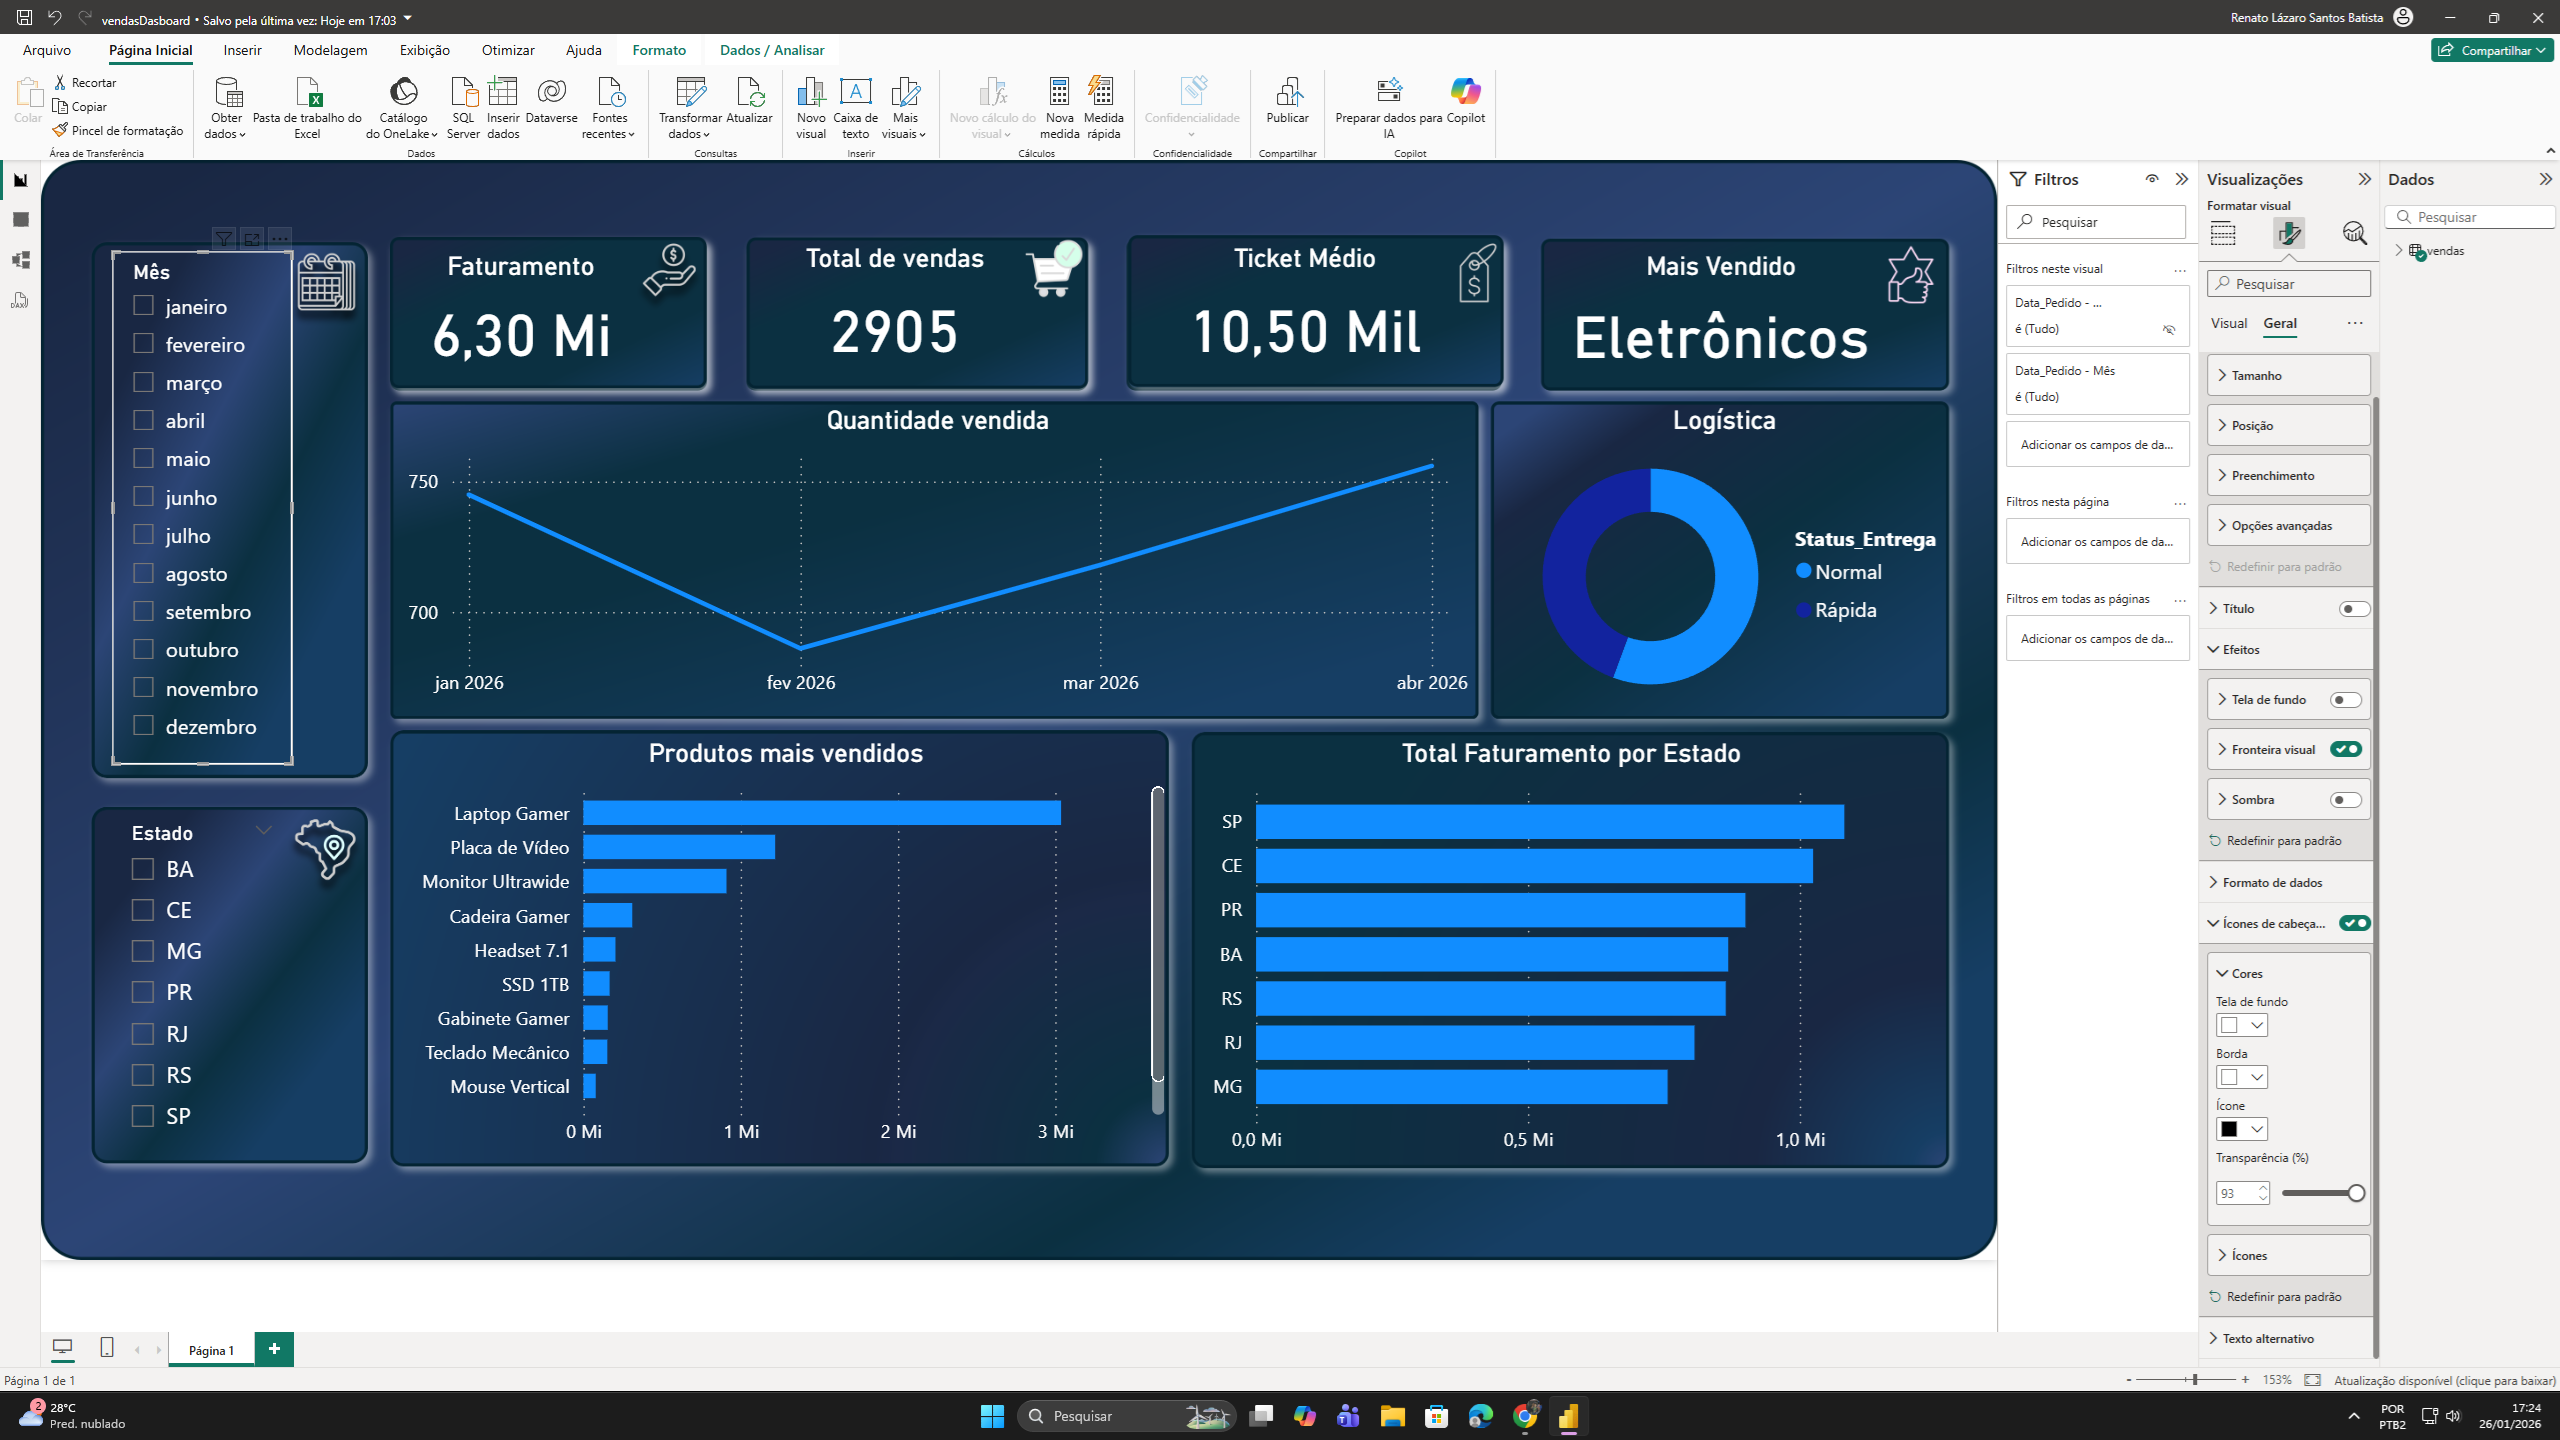

Layout of this report page (visuals, bound fields, positions):
{"tool":"powerbi","page":{"name":"Página 1","canvas":[1280,720],"ordinal":0},"visuals":[{"type":"card","title":"Faturamento","fields":{"Values":["Sum(dadc64f5-7e9e-4761-be42-3d51af9.Faturamento)"]},"box":[234.9,59.6,158.4,83.1],"z":0},{"type":"card","title":"Total de vendas","fields":{"Values":["Sum(dadc64f5-7e9e-4761-be42-3d51af9.Quantidade)"]},"box":[472.5,54.3,172.8,88.3],"z":1000},{"type":"card","title":"Ticket Médio","fields":{"Values":["vendas.Ticket Médio"]},"box":[728.3,54.3,197.6,88.3],"z":2000},{"type":"card","title":"Mais Vendido","fields":{"Values":["vendas.Top Categoria Texto"]},"box":[996,59.6,206.8,85.7],"z":3000},{"type":"lineChart","title":"Quantidade vendida","fields":{"Category":["vendas.Mês.Variation.Hierarquia de datas.Ano","vendas.Mês.Variation.Hierarquia de datas.Trimestre","vendas.Mês.Variation.Hierarquia de datas.Mês","vendas.Mês.Variation.Hierarquia de datas.Dia"],"Y":["Sum(vendas.Quantidade)"]},"box":[234.9,160.3,704.1,199.6],"z":4000},{"type":"barChart","title":"Produtos mais vendidos","fields":{"Category":["vendas.Nome_Produto"],"Y":["Sum(vendas.Faturamento)"]},"box":[234.9,378.2,505.2,275.5],"z":5000},{"type":"barChart","fields":{"Category":["vendas.Estado"],"Y":["vendas.Total Faturamento"]},"box":[759.1,378.2,484.9,280.7],"z":6000},{"type":"slicer","fields":{"Values":["vendas.Data_Pedido.Variation.Hierarquia de datas.Mês"]},"box":[46.5,59.6,118.4,336.4],"z":7000},{"type":"donutChart","title":"Logística","fields":{"Category":["vendas.Status_Entrega"],"Y":["Sum(vendas.ID_Pedido)"]},"box":[953.5,160.3,296.4,205.5],"z":8000},{"type":"slicer","fields":{"Values":["vendas.Estado"]},"box":[46.5,428,117.8,225.8],"z":9000}]}

Visuals, with their boxes on the page's 1280x720 design canvas (x1, y1, x2, y2). These are canvas units, not pixel positions in the 2560x1440 screenshot, which may show the page scaled, cropped or inside an application window:
"Faturamento" card: (left=235, top=60, right=393, bottom=143)
"Total de vendas" card: (left=472, top=54, right=645, bottom=143)
"Ticket Médio" card: (left=728, top=54, right=926, bottom=143)
"Mais Vendido" card: (left=996, top=60, right=1203, bottom=145)
"Quantidade vendida" lineChart: (left=235, top=160, right=939, bottom=360)
"Produtos mais vendidos" barChart: (left=235, top=378, right=740, bottom=654)
barChart - vendas.Estado x vendas.Total Faturamento: (left=759, top=378, right=1244, bottom=659)
slicer - vendas.Data_Pedido.Variation.Hierarquia de datas.Mês: (left=46, top=60, right=165, bottom=396)
"Logística" donutChart: (left=954, top=160, right=1250, bottom=366)
slicer - vendas.Estado: (left=46, top=428, right=164, bottom=654)
